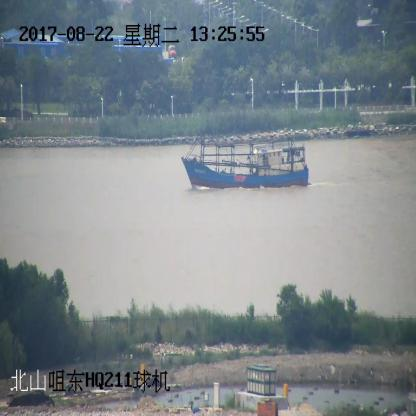Fishing Boat: (182, 129, 307, 191)
